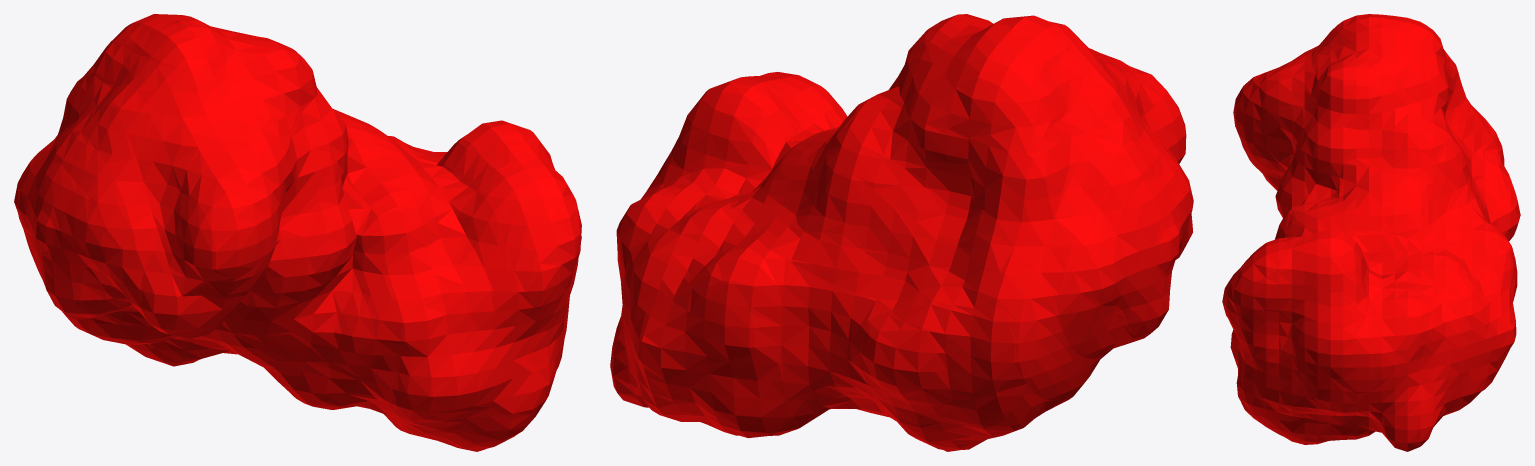
Rendered from tpiA_coarse.dae.
3 renders of one model, left to right at view 1: azimuth 30°, elevation 25°; view 2: azimuth 150°, elevation 25°; view 3: azimuth 270°, elevation 25°, orthographic. The views are drawn at different scales.
Visible parts, largest first — view 1: tpiA; view 2: tpiA; view 3: tpiA.
Boxes of the visible parts, x1,y1,x2,y2 form: tpiA: (14,14,581,451); tpiA: (610,14,1193,451); tpiA: (1222,14,1520,451).
Size of the model in its own units: 77.7 by 65.47 by 52.72.
